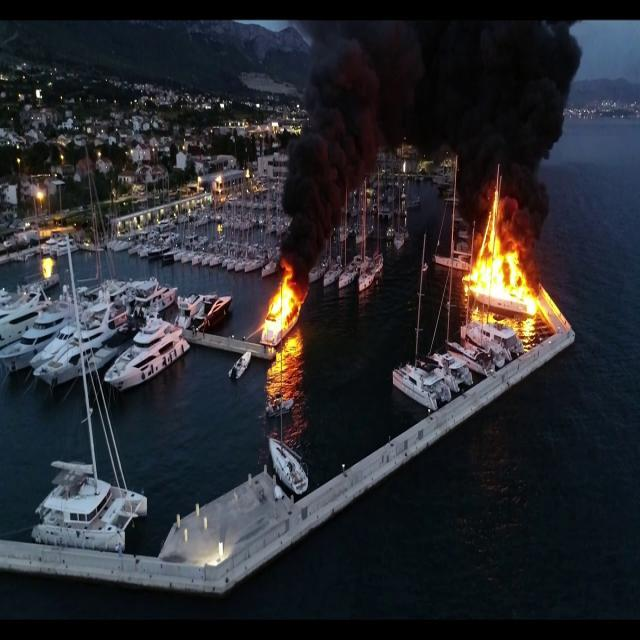Fire: (460, 175, 546, 342), (256, 264, 306, 350)
Smoke: (280, 0, 420, 239)
